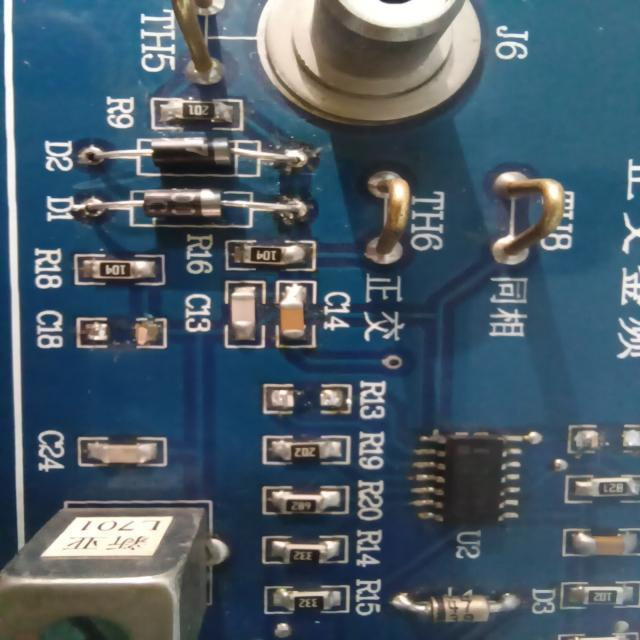Missing component: (30, 308, 172, 358), (248, 374, 390, 422), (563, 419, 640, 462)
